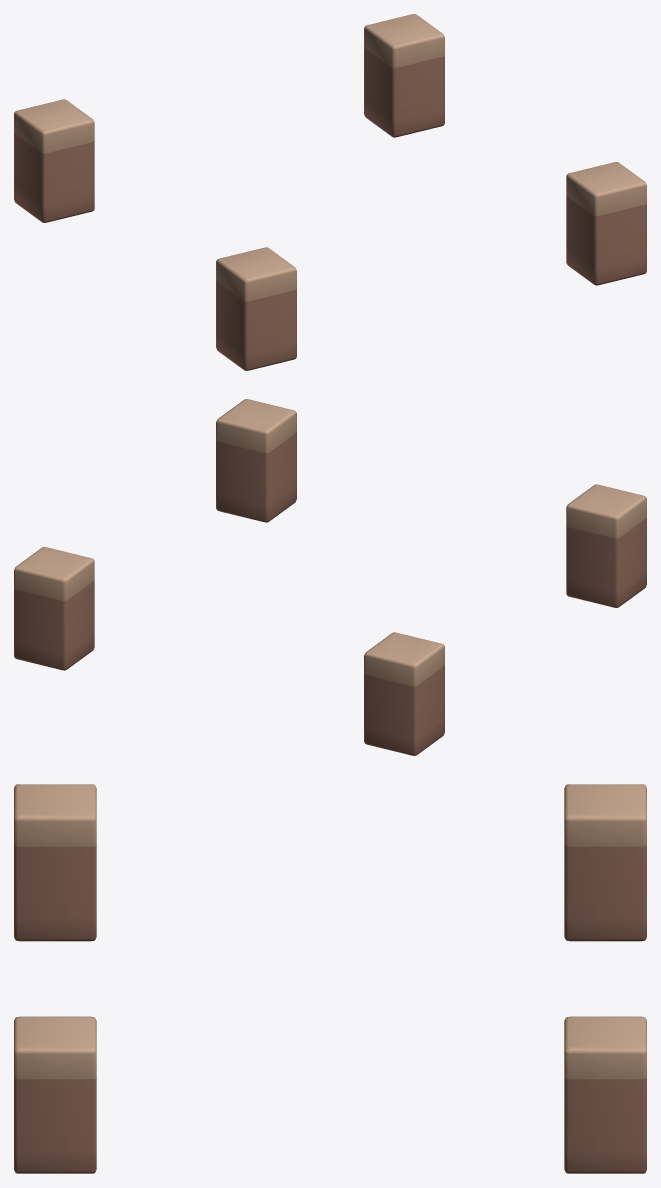
The model's file is Props.fbx.
3 views of the same model, one above another, from view 1: azimuth 30°, elevation 25°; view 2: azimuth 150°, elevation 25°; view 3: azimuth 270°, elevation 25° (orthographic). The views are drawn at different scales.
Parts seen in each view (by area): view 1: Box03 (1), Box03 (2), Box03, Box03 (3); view 2: Box03, Box03 (3), Box03 (1), Box03 (2); view 3: Box03, Box03 (1), Box03 (2), Box03 (3).
Boxes of the visible parts, left/top/right/bottom form: Box03 (1): left=14, top=99, right=94, bottom=222; Box03 (2): left=566, top=162, right=646, bottom=285; Box03: left=216, top=247, right=296, bottom=370; Box03 (3): left=364, top=14, right=444, bottom=137; Box03: left=566, top=484, right=646, bottom=607; Box03 (3): left=14, top=547, right=94, bottom=670; Box03 (1): left=364, top=632, right=444, bottom=755; Box03 (2): left=216, top=399, right=296, bottom=522; Box03: left=14, top=784, right=96, bottom=941; Box03 (1): left=564, top=784, right=646, bottom=941; Box03 (2): left=14, top=1016, right=96, bottom=1173; Box03 (3): left=564, top=1016, right=646, bottom=1173.
Size of the model in its own units: 23 by 5.01 by 23.
